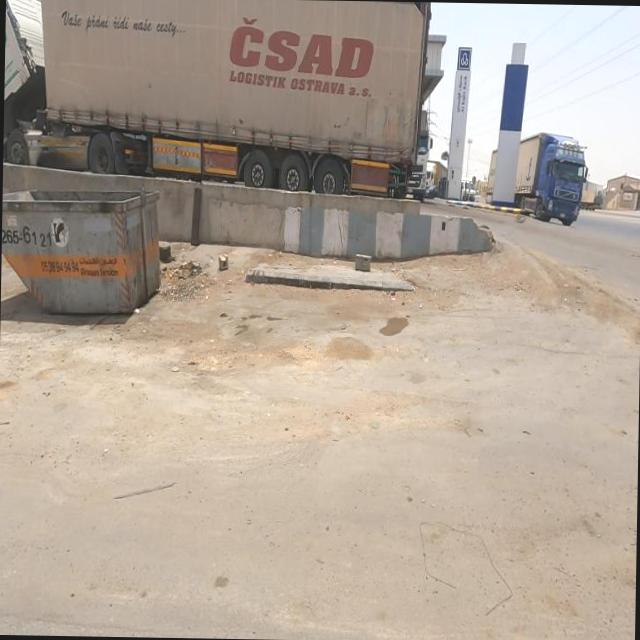debris: (144, 228, 230, 329), (188, 210, 258, 317)
